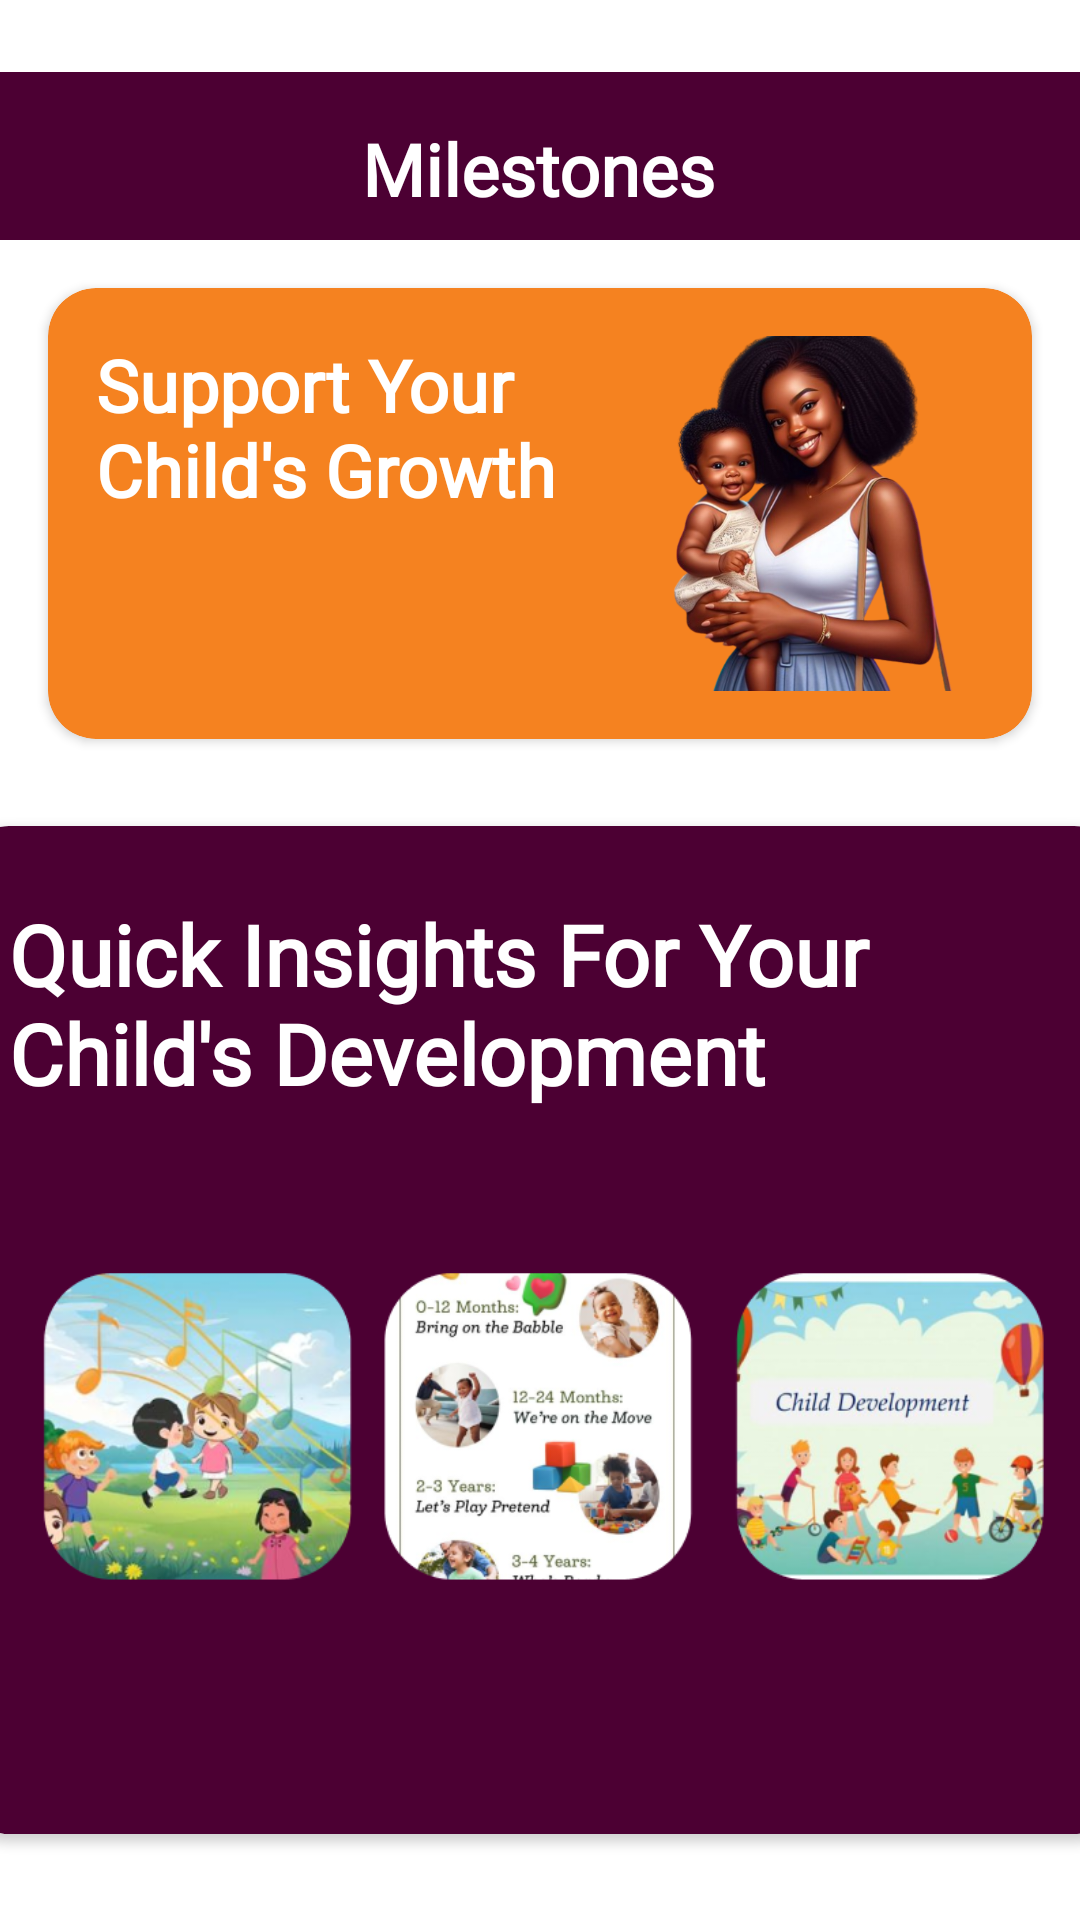

Screen size 1080*1920. Icon name, then its box in pixels as (x1, y1, x2, y2):
mother: (674, 336, 952, 691)
